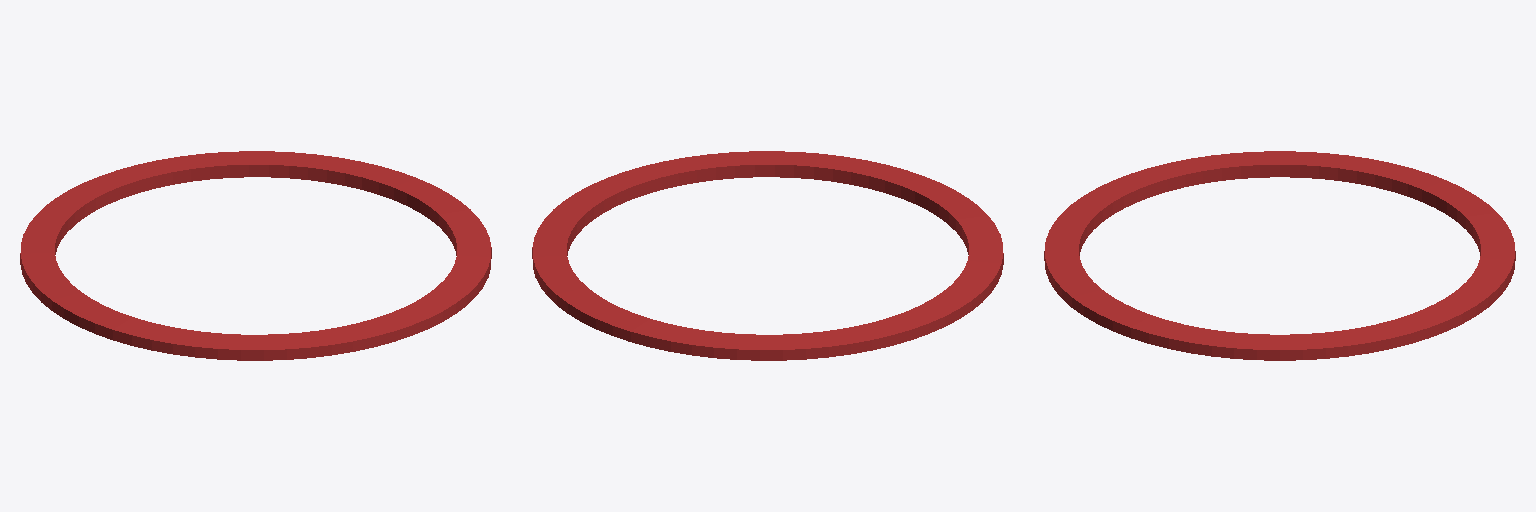
The robot description file, URDF, robot "hoop":
<?xml version="1.0"?>
<robot name="hoop">
    <link name="base_link">
    <visual>
        <geometry>
        <mesh filename="./hoop.obj" scale="0.15 0.15 0.15"/>
        </geometry>
        <material name="hoop_material">
        <color rgba="0.75 0.25 0.25 1"/>
        </material>
    </visual>
    </link>
</robot>

--- Facts derived from the render (not from the file) ---
3 views of the same robot in one strip: view 1: azimuth 30°, elevation 25°; view 2: azimuth 150°, elevation 25°; view 3: azimuth 270°, elevation 25° (orthographic).
Robot: hoop — 1 links, 0 joints (none); root link base_link; default pose: all joints at 0.
Visible links, largest first — view 1: base_link; view 2: base_link; view 3: base_link.
Boxes of the visible links, bbox=[...] form: base_link: bbox=[20, 151, 491, 360]; base_link: bbox=[532, 151, 1003, 360]; base_link: bbox=[1044, 151, 1515, 360].
Size in the robot's own frame: 0.3398 by 0.3398 by 0.0101 metres.
1 mesh visuals loaded from 1 distinct referenced files (1 OBJ).
